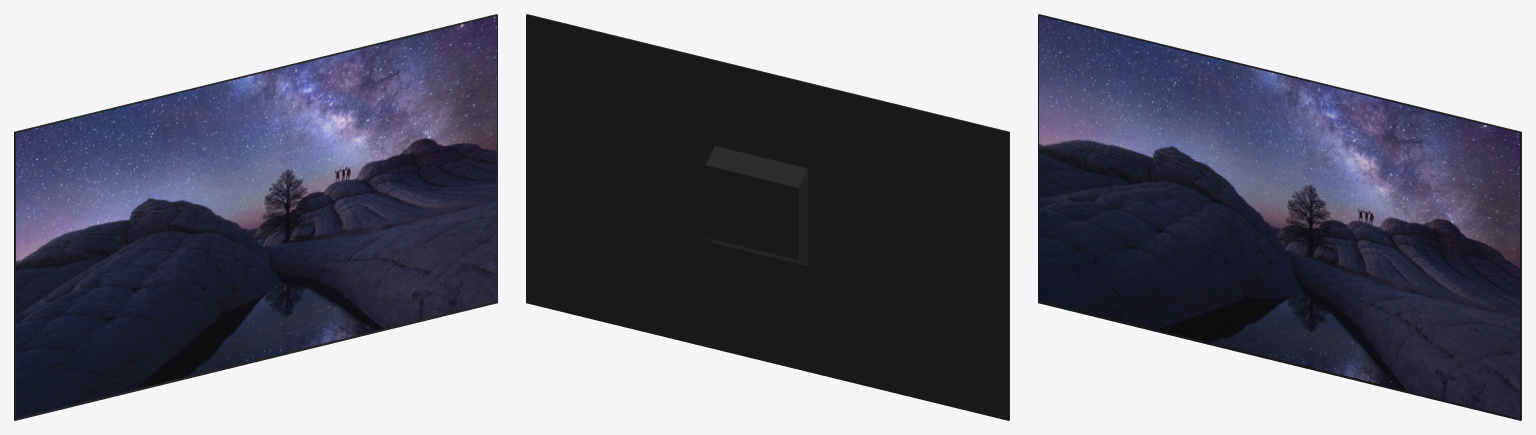
The model's file is WallMount.glb.
The picture shows the model from 3 angles, left to right: view 1: azimuth 30°, elevation 25°; view 2: azimuth 150°, elevation 25°; view 3: azimuth 330°, elevation 25°; orthographic projection.
Visible parts, largest first — view 1: Plane.001; view 2: Plane.001, Cube.034; view 3: Plane.001.
Boxes of the visible parts, bbox=[...] form: Plane.001: bbox=[14, 14, 497, 420]; Plane.001: bbox=[526, 14, 1009, 420]; Cube.034: bbox=[705, 146, 807, 265]; Plane.001: bbox=[1038, 14, 1521, 420].
Bounding box in the file's own units: 2.18 × 1.25 × 0.0865.
Materials: 3 (1 with a texture image).
